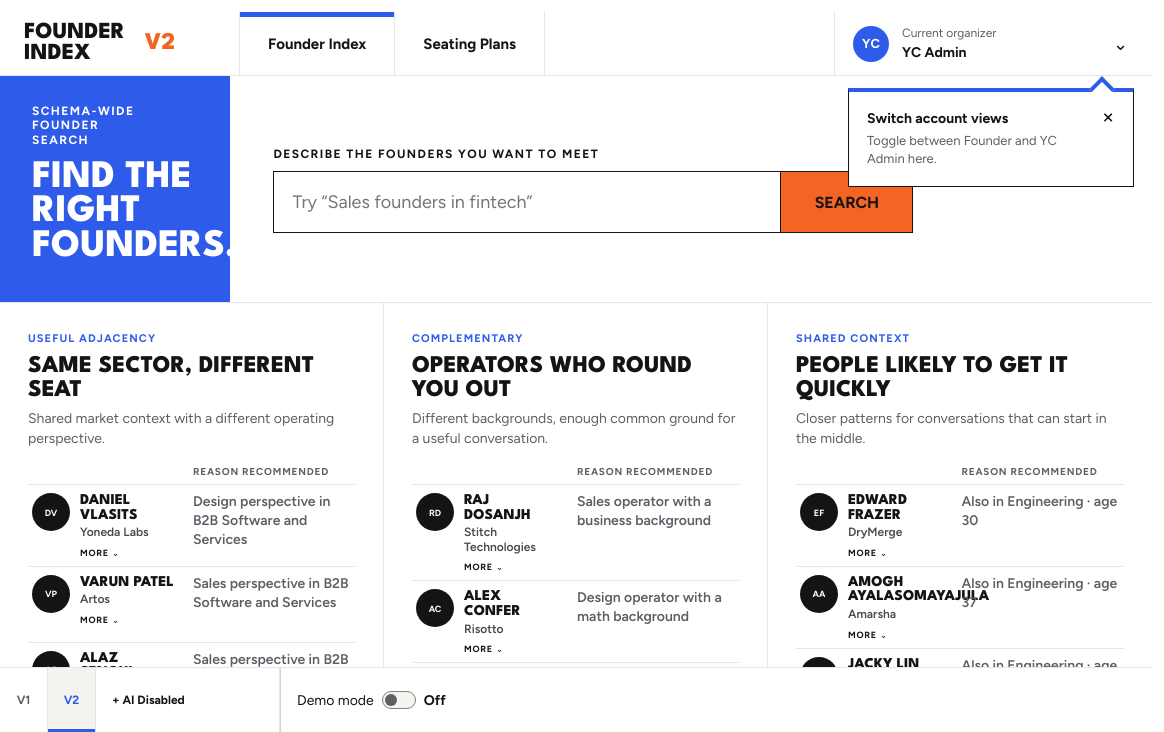
Scenario: SearchPage results › shows matched dimensions and an independent attribute disclosure on each grid card
Type "company Lantern" into the field labelled "Describe the founders you want to meet".
click(527, 202); type("company Lantern")  # box x1=274 y1=172 x2=780 y2=232
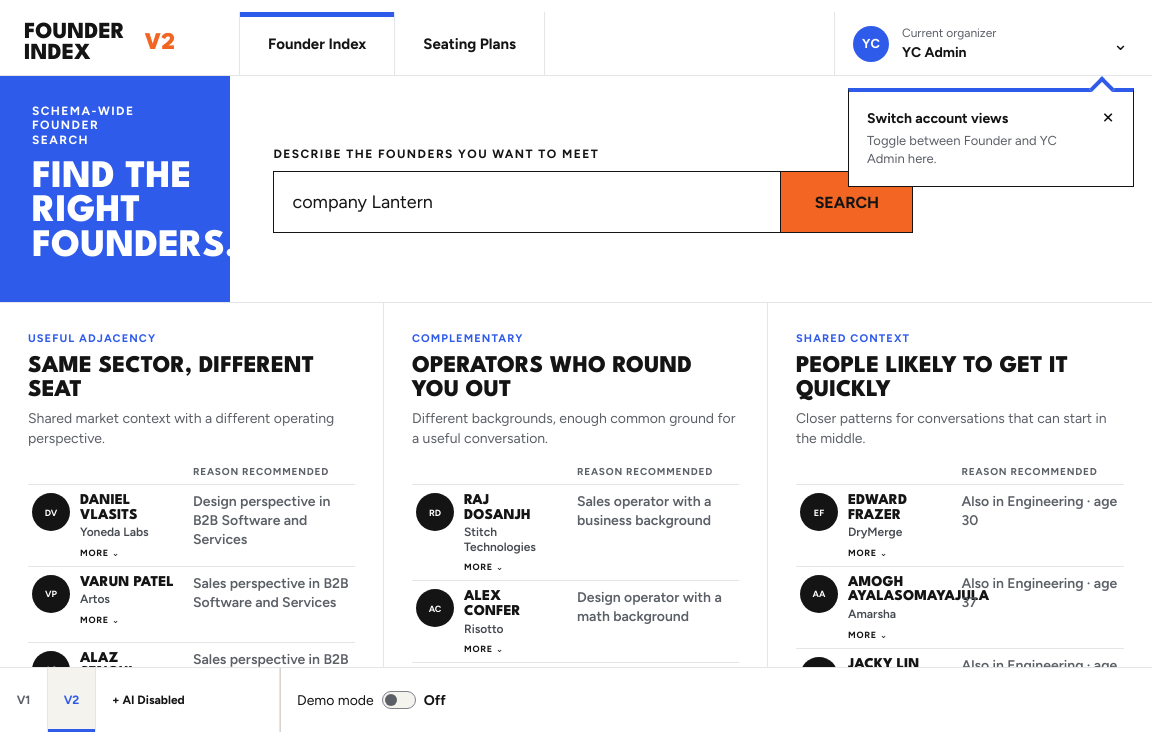
Click the button "Search".
click(846, 202)  # box x1=780 y1=172 x2=912 y2=232
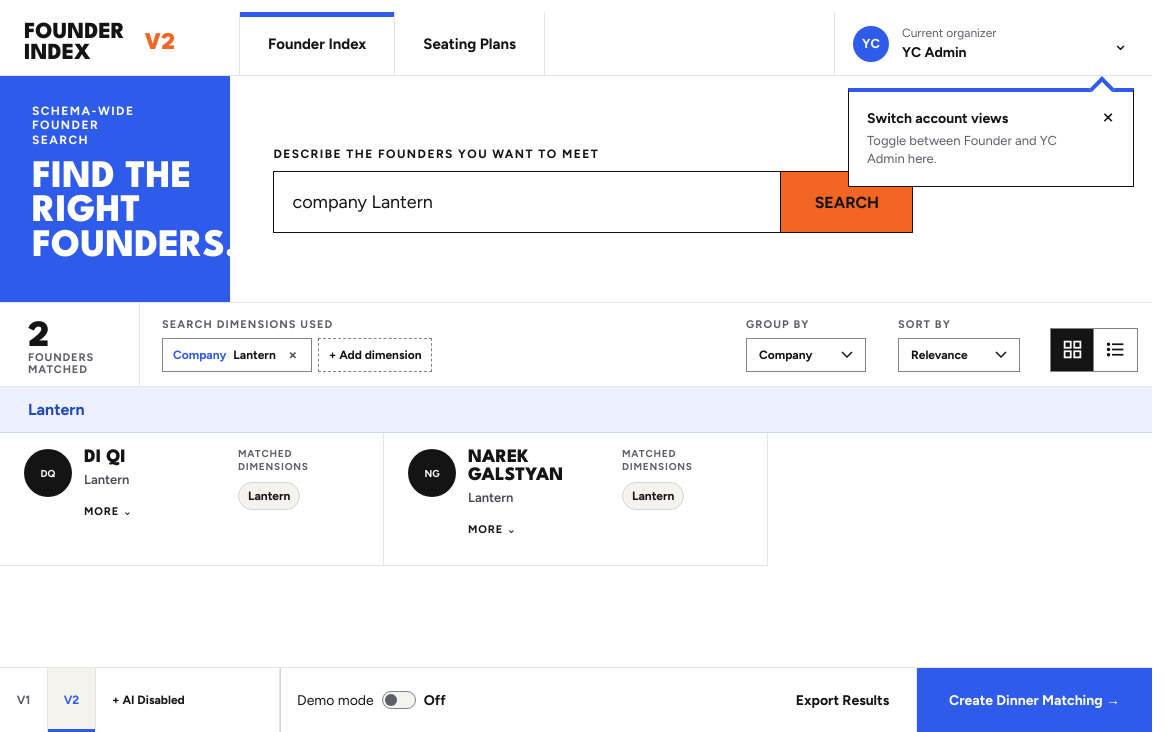
Now the heading "Di Qi" is shown, box x1=84 y1=449 x2=133 y2=467
Now the text "Matched dimensions" next to "Di Qi" is shown, box x1=238 y1=447 x2=309 y2=473
Now the list item "Lantern" below "DQ" is shown, box x1=248 y1=489 x2=290 y2=503
Click the button "More ⌄" below "Di Qi".
click(108, 509)  # box x1=84 y1=487 x2=133 y2=531
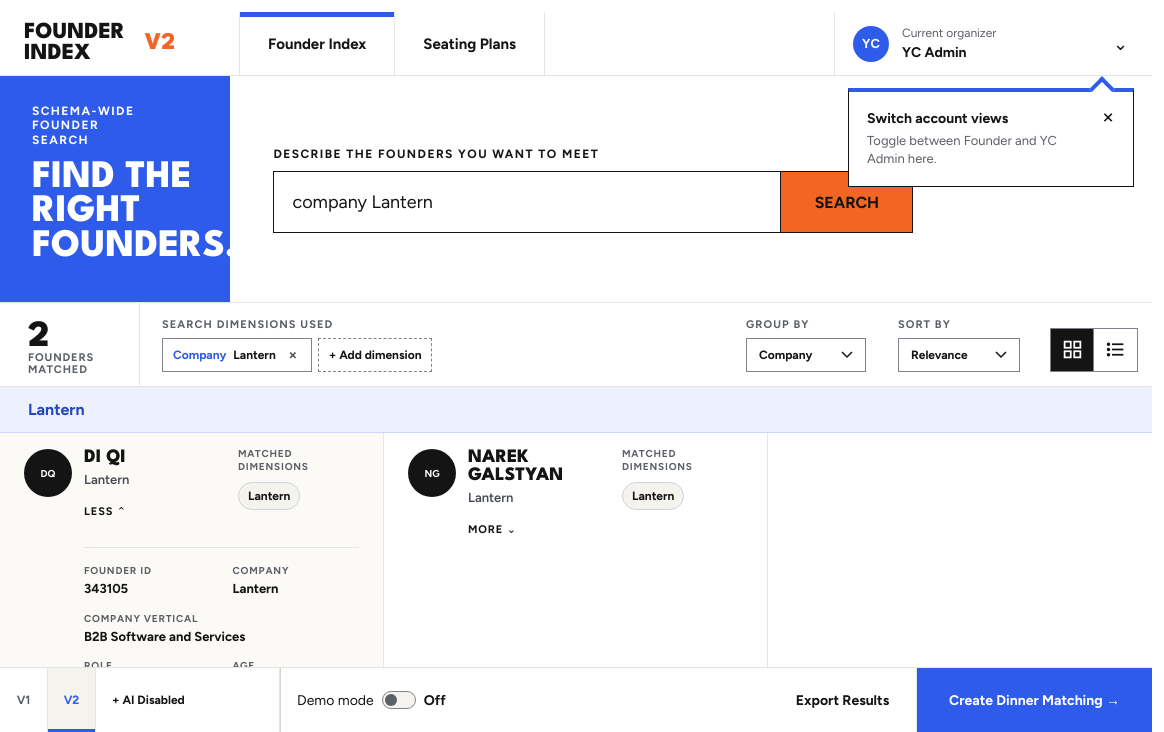
Now the button named "More ⌄" is expanded, box x1=84 y1=487 x2=127 y2=531
Now the button named "More ⌄" reads "Less ⌃", box x1=84 y1=487 x2=127 y2=531
Now the text "343105" is shown, box x1=84 y1=581 x2=128 y2=596
